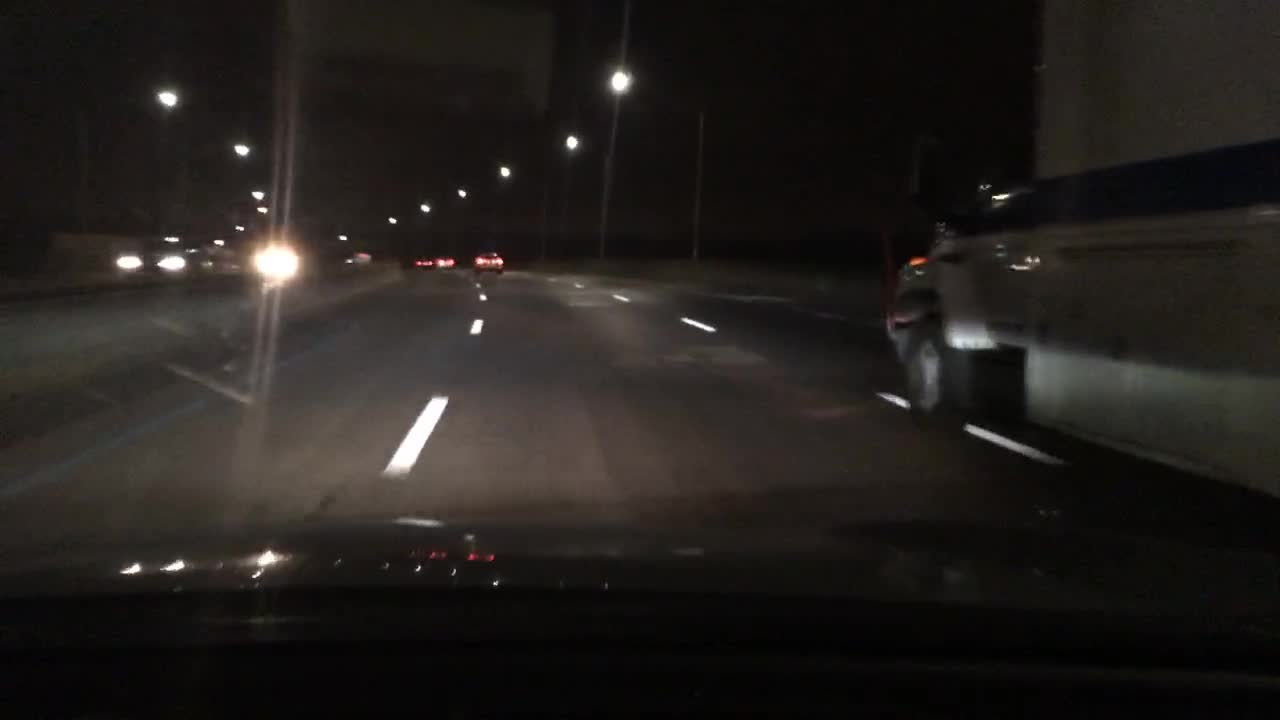car: (114, 240, 192, 274), (193, 240, 241, 274), (472, 249, 504, 271), (410, 253, 433, 269), (431, 254, 457, 267), (348, 250, 372, 262)
truck: (881, 0, 1278, 509)
